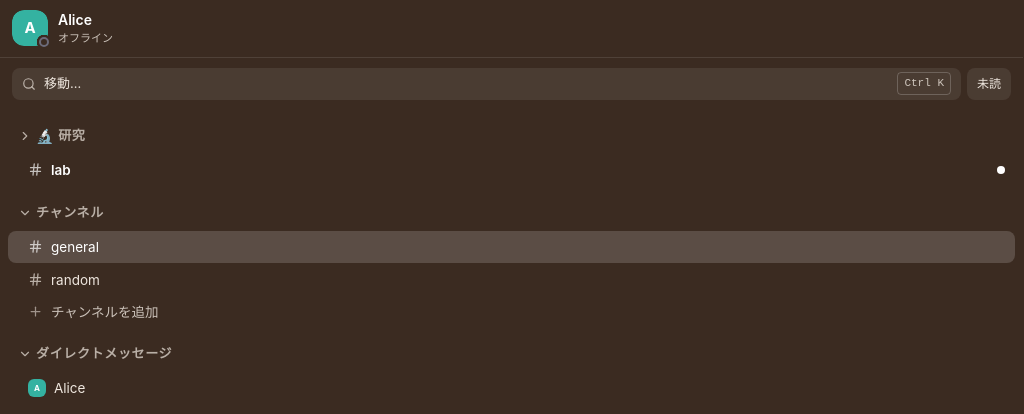
Test case: sidebar sections (M26, Slack) › folds the default sections on this device
The image size is (1024, 414).
What coordinates should you click on to do the following:
click the button "チャンネル"
I would click on:
 (70, 212)
Its box is x1=14 y1=203 x2=953 y2=222.
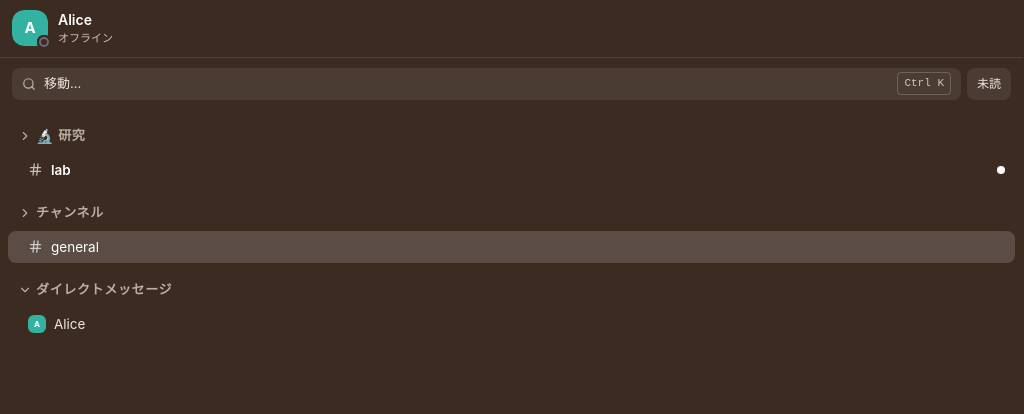
Expected: the button "general" is shown, x1=8 y1=230 x2=1015 y2=262
Expected: the button "random" is gone
